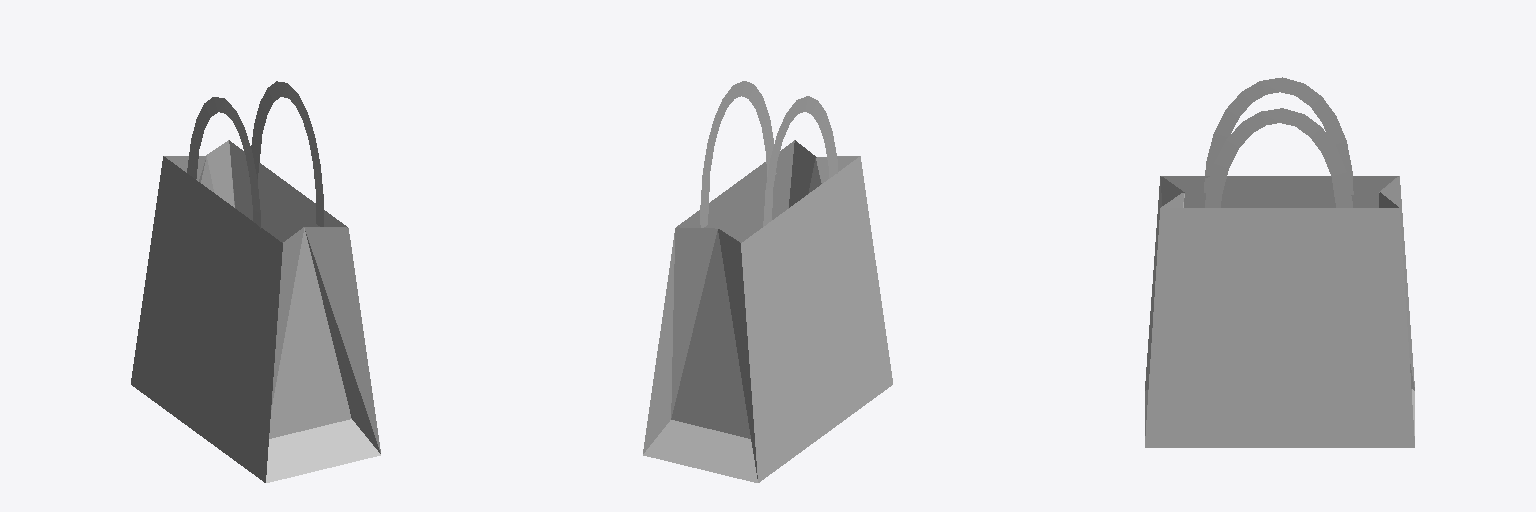
File: Shopping_Bag.obj
3 renders of one model, left to right at view 1: azimuth 30°, elevation 25°; view 2: azimuth 150°, elevation 25°; view 3: azimuth 270°, elevation 25°, orthographic.
Visible parts, largest first — view 1: Bag_Cube.001, Handles_NurbsPath.001; view 2: Bag_Cube.001, Handles_NurbsPath.001; view 3: Bag_Cube.001, Handles_NurbsPath.001.
Part boxes in pixels (x1,y1,x2,y2): Bag_Cube.001: (131, 140, 380, 482); Handles_NurbsPath.001: (187, 81, 323, 228); Bag_Cube.001: (643, 140, 892, 482); Handles_NurbsPath.001: (700, 81, 837, 227); Bag_Cube.001: (1145, 176, 1414, 447); Handles_NurbsPath.001: (1204, 77, 1353, 207).
Size of the model in its own units: 2 by 5.42 by 4.05.